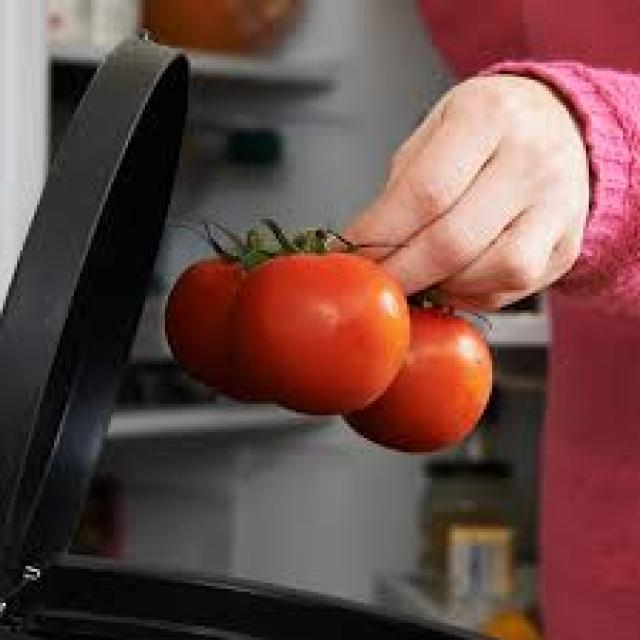food_waste: (165, 250, 489, 449)
